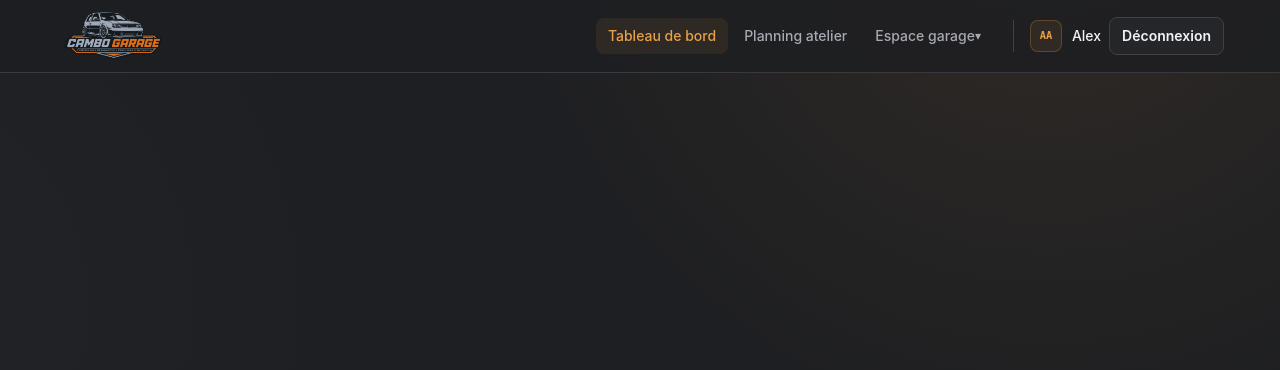
Test: SiteHeader › ouvre et referme le menu desktop avec aria-expanded
The image size is (1280, 370).
Click the button "Espace garage ▾": (928, 36) [863,18,993,54]
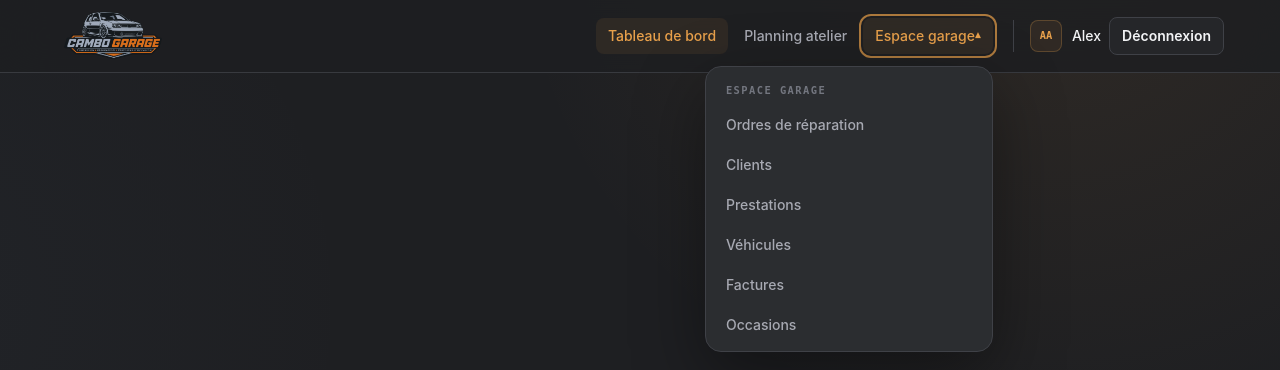
Expected: the button "Espace garage ▾" is expanded
Expected: the link "Ordres de réparation" is shown, [726,116,864,133]
Click the button "Espace garage ▾": (928, 36) [863,18,993,54]
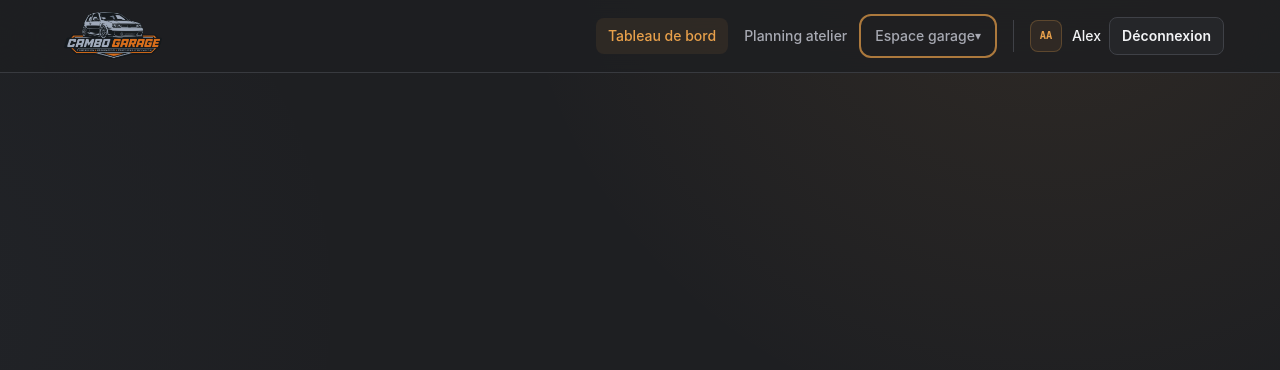
Expected: the button "Espace garage ▾" is collapsed, [863,18,993,54]
Expected: the link "Ordres de réparation" is gone
